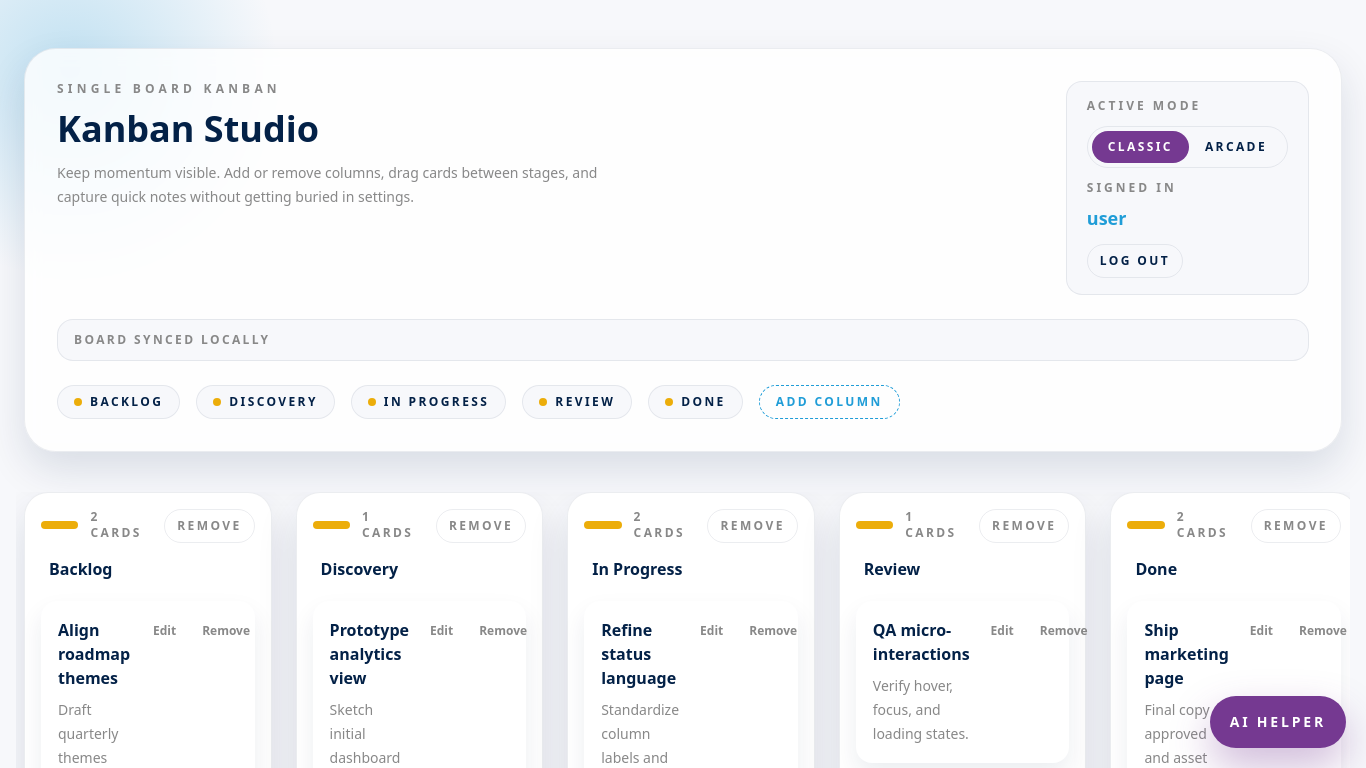
Test case: AppShell › logs out back to the login form
The width and height of the screenshot is (1366, 768).
Click the button "Log Out" at (1135, 261), box [1087,244,1183,278]
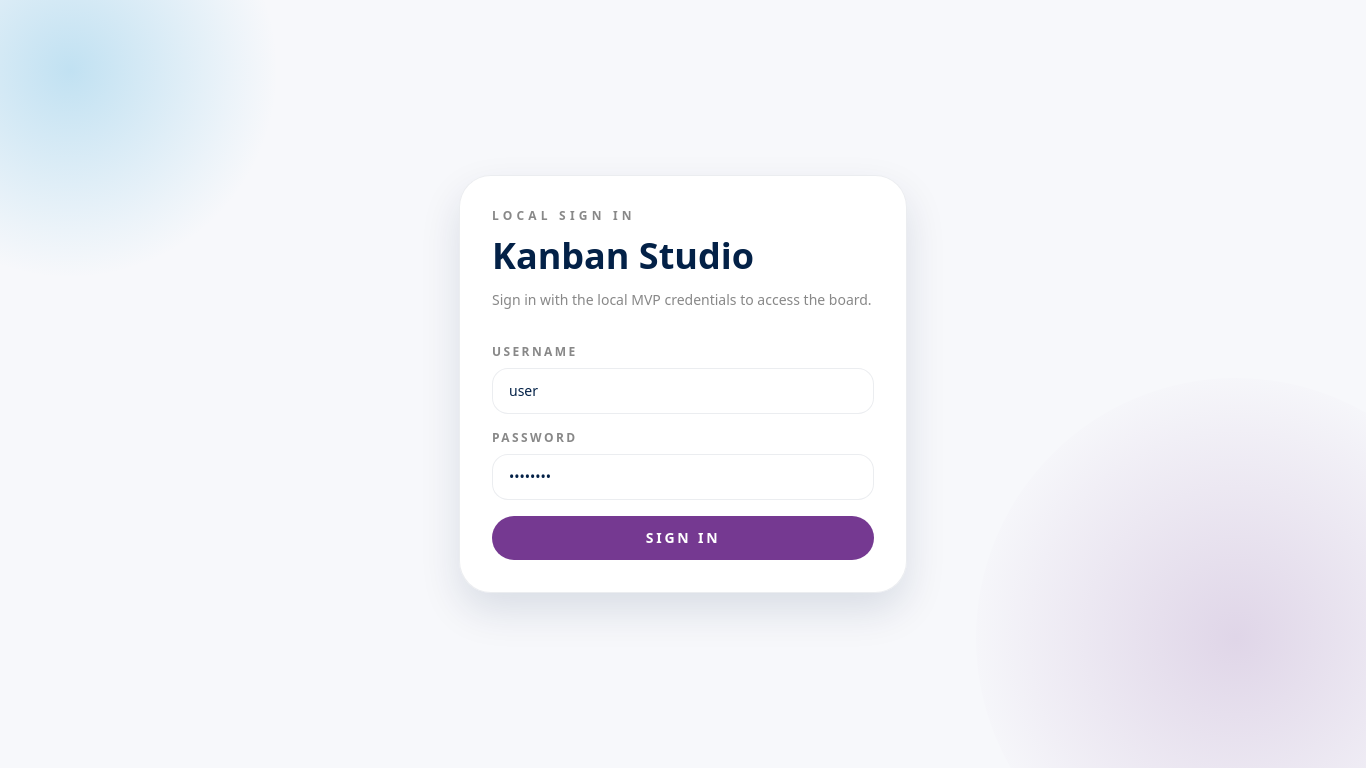
Now the button "Sign In" is shown, box [492,516,874,560]
